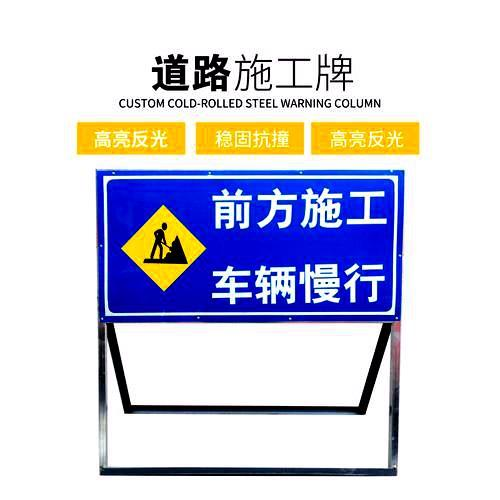sign: (98, 170, 401, 319)
